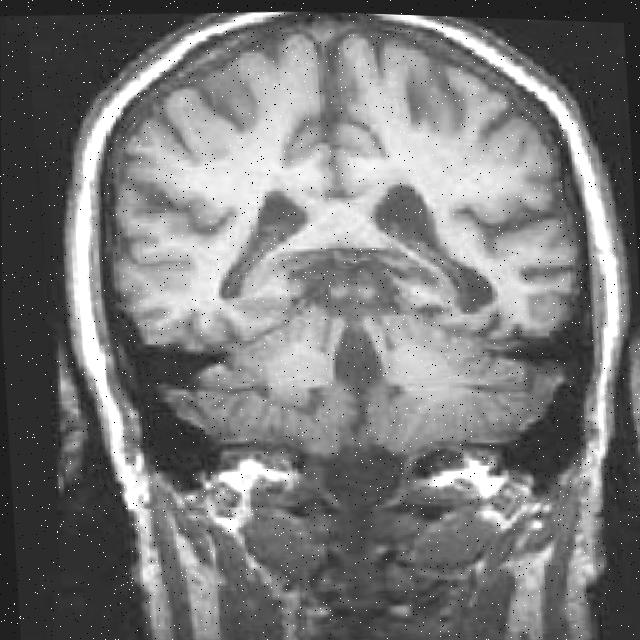NoTumor: (46, 2, 635, 479)
